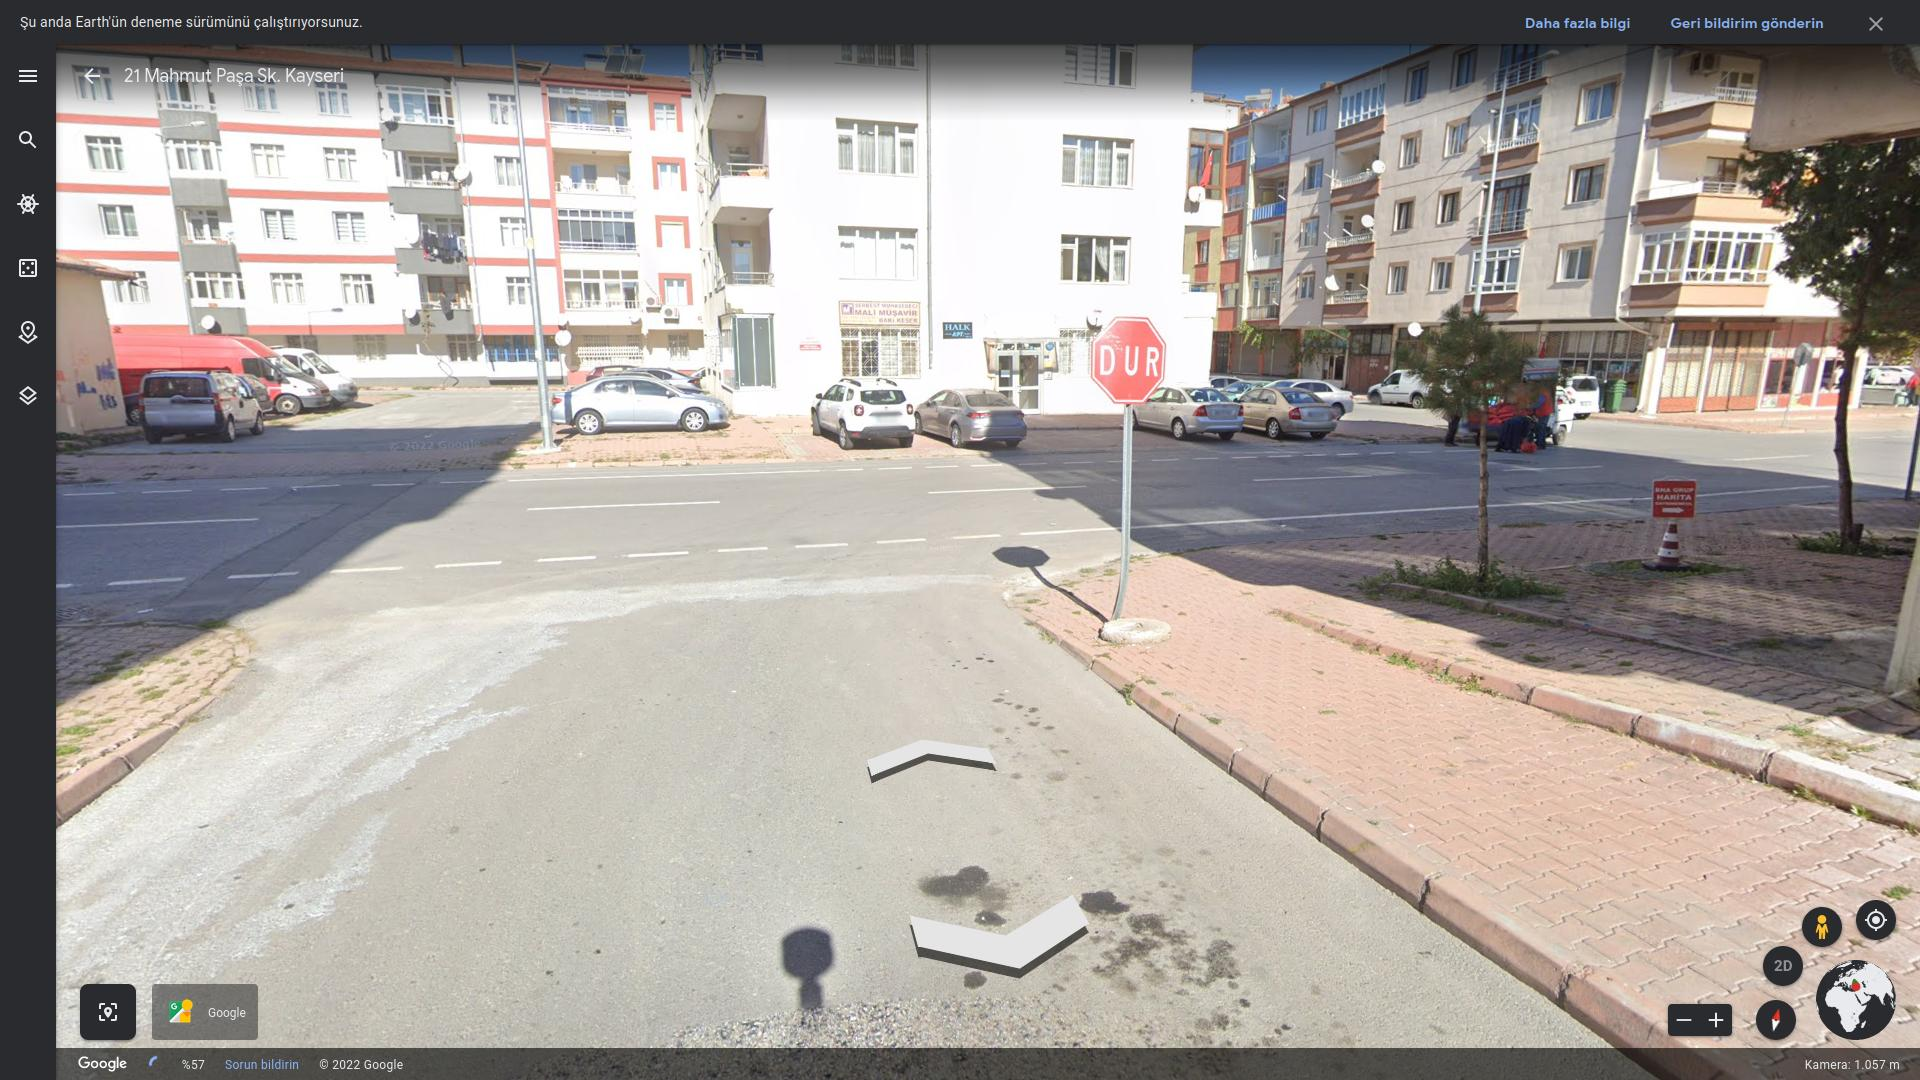stop: (1093, 315, 1166, 406)
